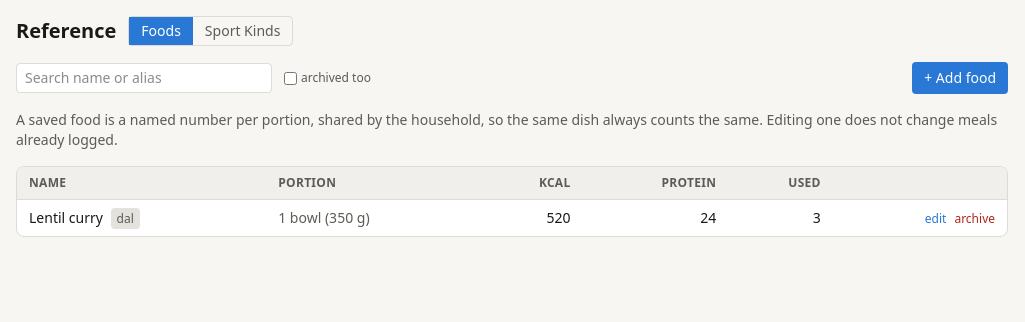
views › FoodsView
Expected: the number of rows with test id "food-row" is 1, [17,200,1007,236]
Step 1. Click the button with test id "add-food" → (960, 78), box [912,62,1008,94]
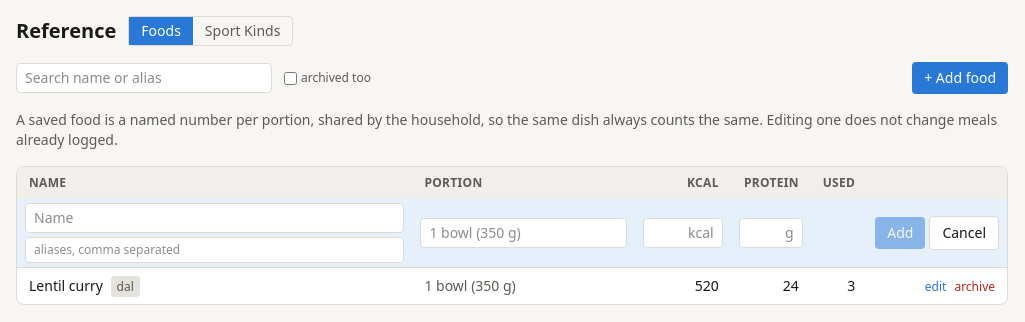
Expected: the row with test id "food-editor" is shown, [17,199,1007,268]
Expected: the button with test id "food-save" is disabled, [875,217,925,249]
